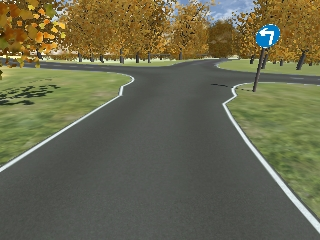left: (257, 24, 280, 46)
